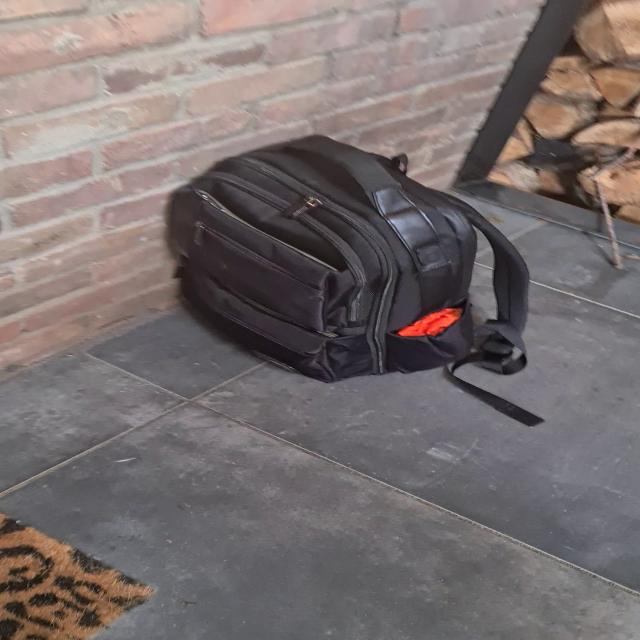backpack: (150, 126, 537, 390)
